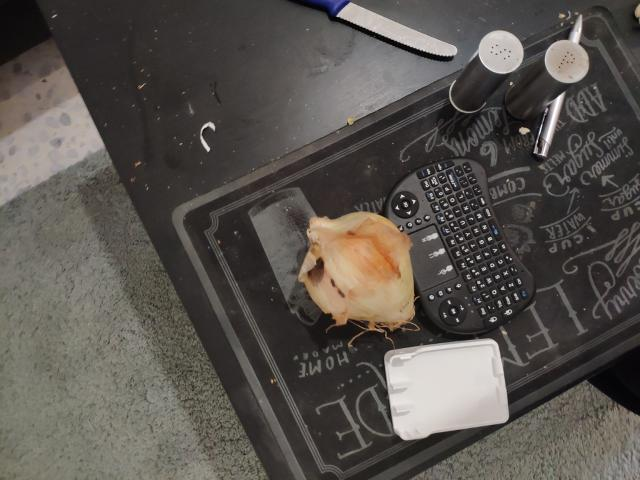onion: (300, 206, 426, 332)
